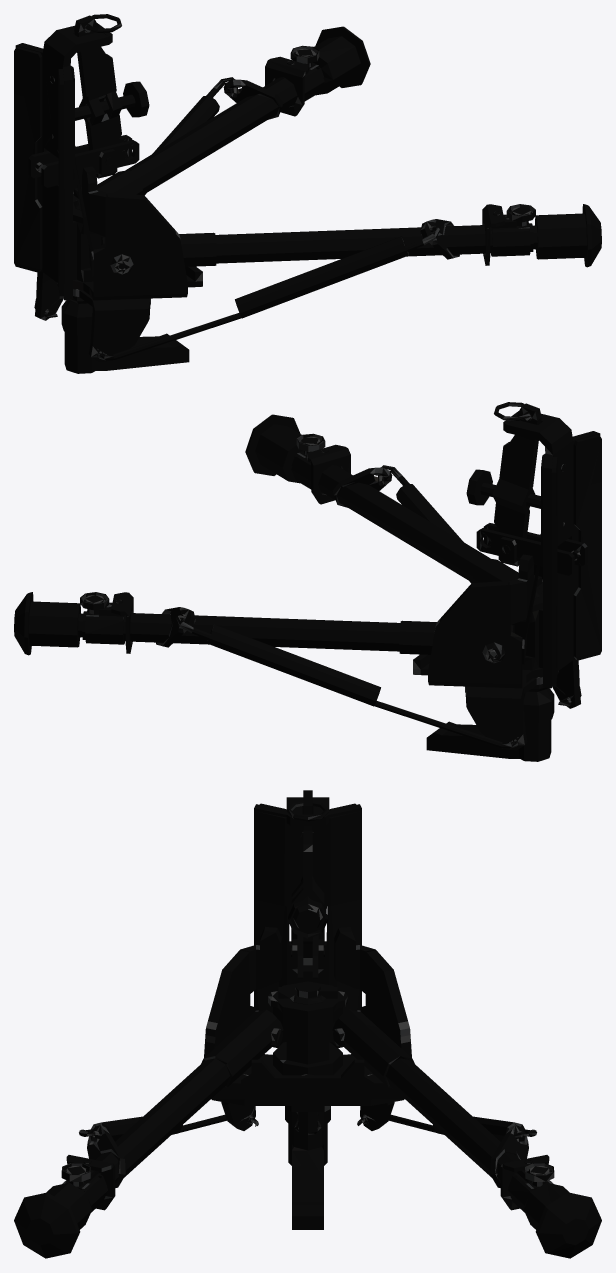
Rendered from Bipod_Harris.fbx.
3 views of the same model, one above another, from view 1: azimuth 30°, elevation 25°; view 2: azimuth 150°, elevation 25°; view 3: azimuth 270°, elevation 25° (orthographic). The views are drawn at different scales.
Parts seen in each view (by area): view 1: asset_Bipod_Harris.001; view 2: asset_Bipod_Harris.001; view 3: asset_Bipod_Harris.001.
Part boxes in pixels (x1,y1,x2,y2): asset_Bipod_Harris.001: (14, 14, 601, 373); asset_Bipod_Harris.001: (14, 402, 601, 761); asset_Bipod_Harris.001: (14, 790, 601, 1258).
Size of the model in its own units: 0.1122 by 0.0872 by 0.12.
